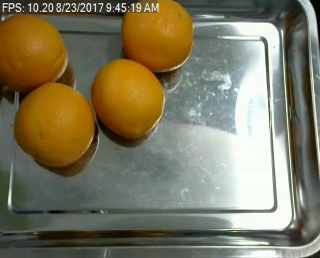Orange: (15, 82, 95, 167), (92, 58, 166, 139), (120, 1, 194, 73), (1, 13, 68, 91)
